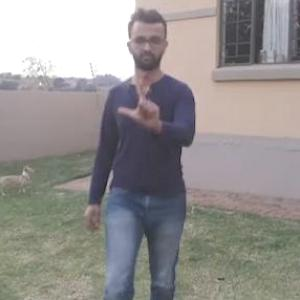land_hand: (118, 71, 167, 127)
